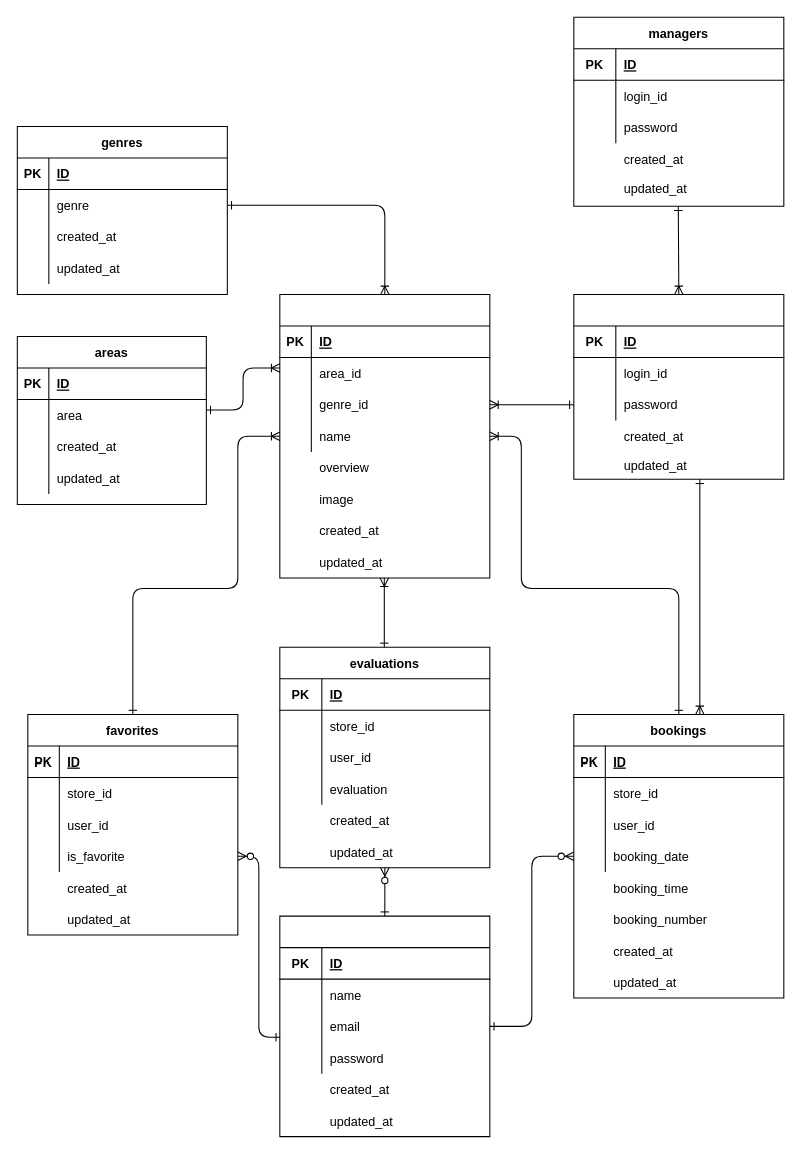
Some shapes in this 801 by 1154 pixel diagram are drawn without their labels. Here are the shapes that lost their labels. From the top down, the box of each, then its label:
(573, 293, 784, 479): storeManagers
(279, 293, 490, 578): stores
(279, 915, 490, 1137): users
